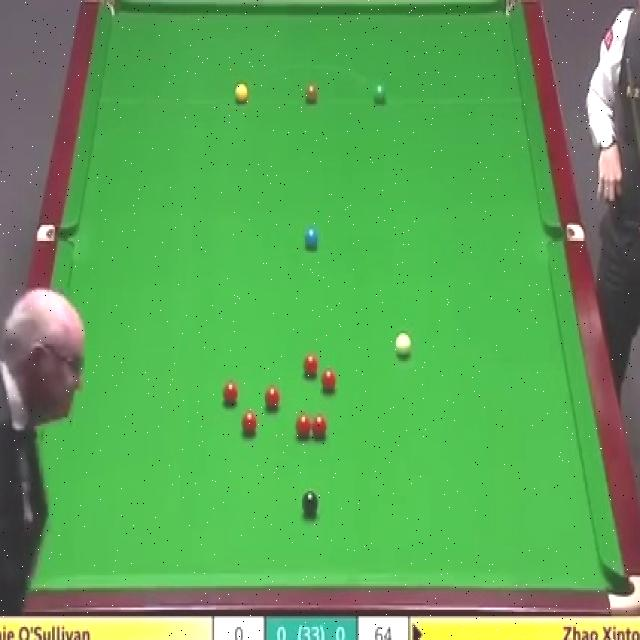black-ball: (301, 491, 319, 514)
blue-ball: (304, 228, 318, 252)
brown-ball: (304, 82, 318, 104)
green-ball: (374, 82, 388, 104)
red-ball: (310, 414, 328, 442), (240, 409, 258, 435), (294, 412, 311, 439), (319, 367, 337, 392), (263, 385, 281, 410), (222, 380, 238, 407), (303, 354, 320, 378)
white-ball: (395, 331, 412, 359)
yellow-ball: (234, 83, 249, 104)
